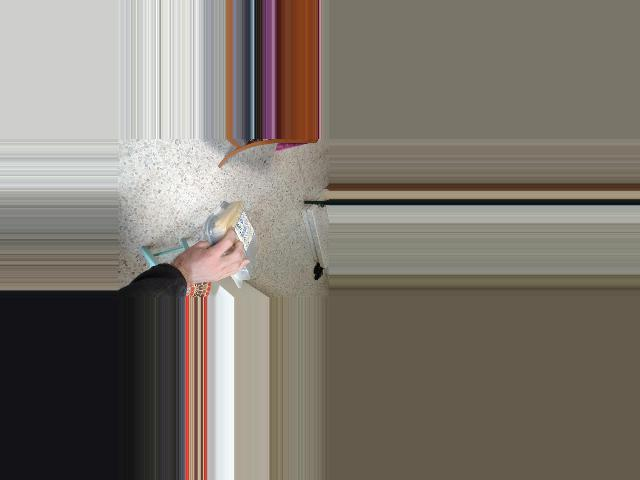cheese: (213, 201, 256, 287)
